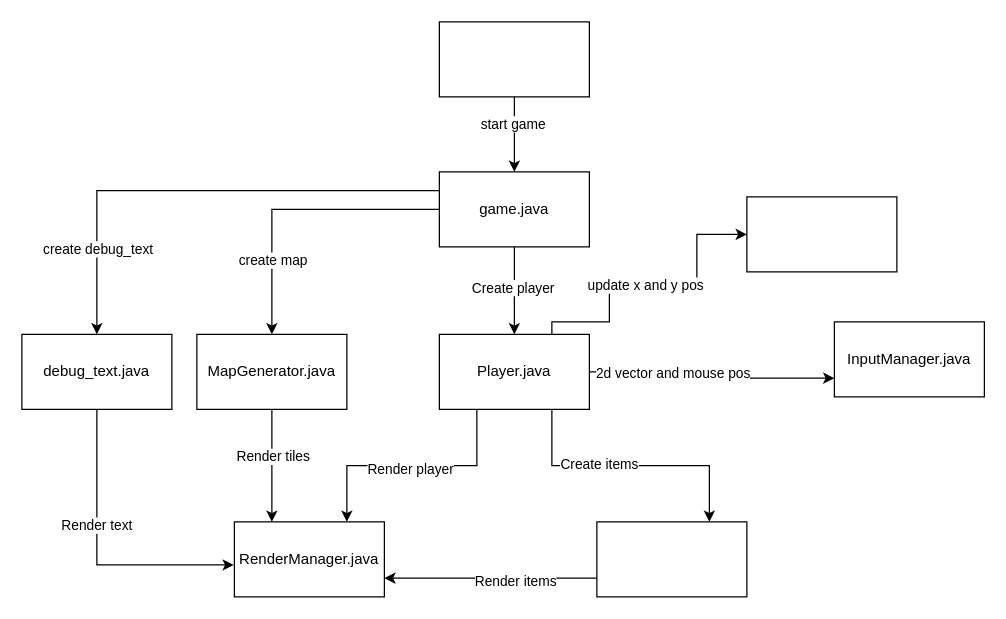
Image size: 1006x619. Some labels were removed from this diagram. Here are the shapes that lost their labels. From the top down, the box of each, then its label:
(438, 21, 589, 97): DesktopLauncher Setup window
(746, 196, 897, 272): Game_update.java
(596, 521, 747, 597): Items.java
